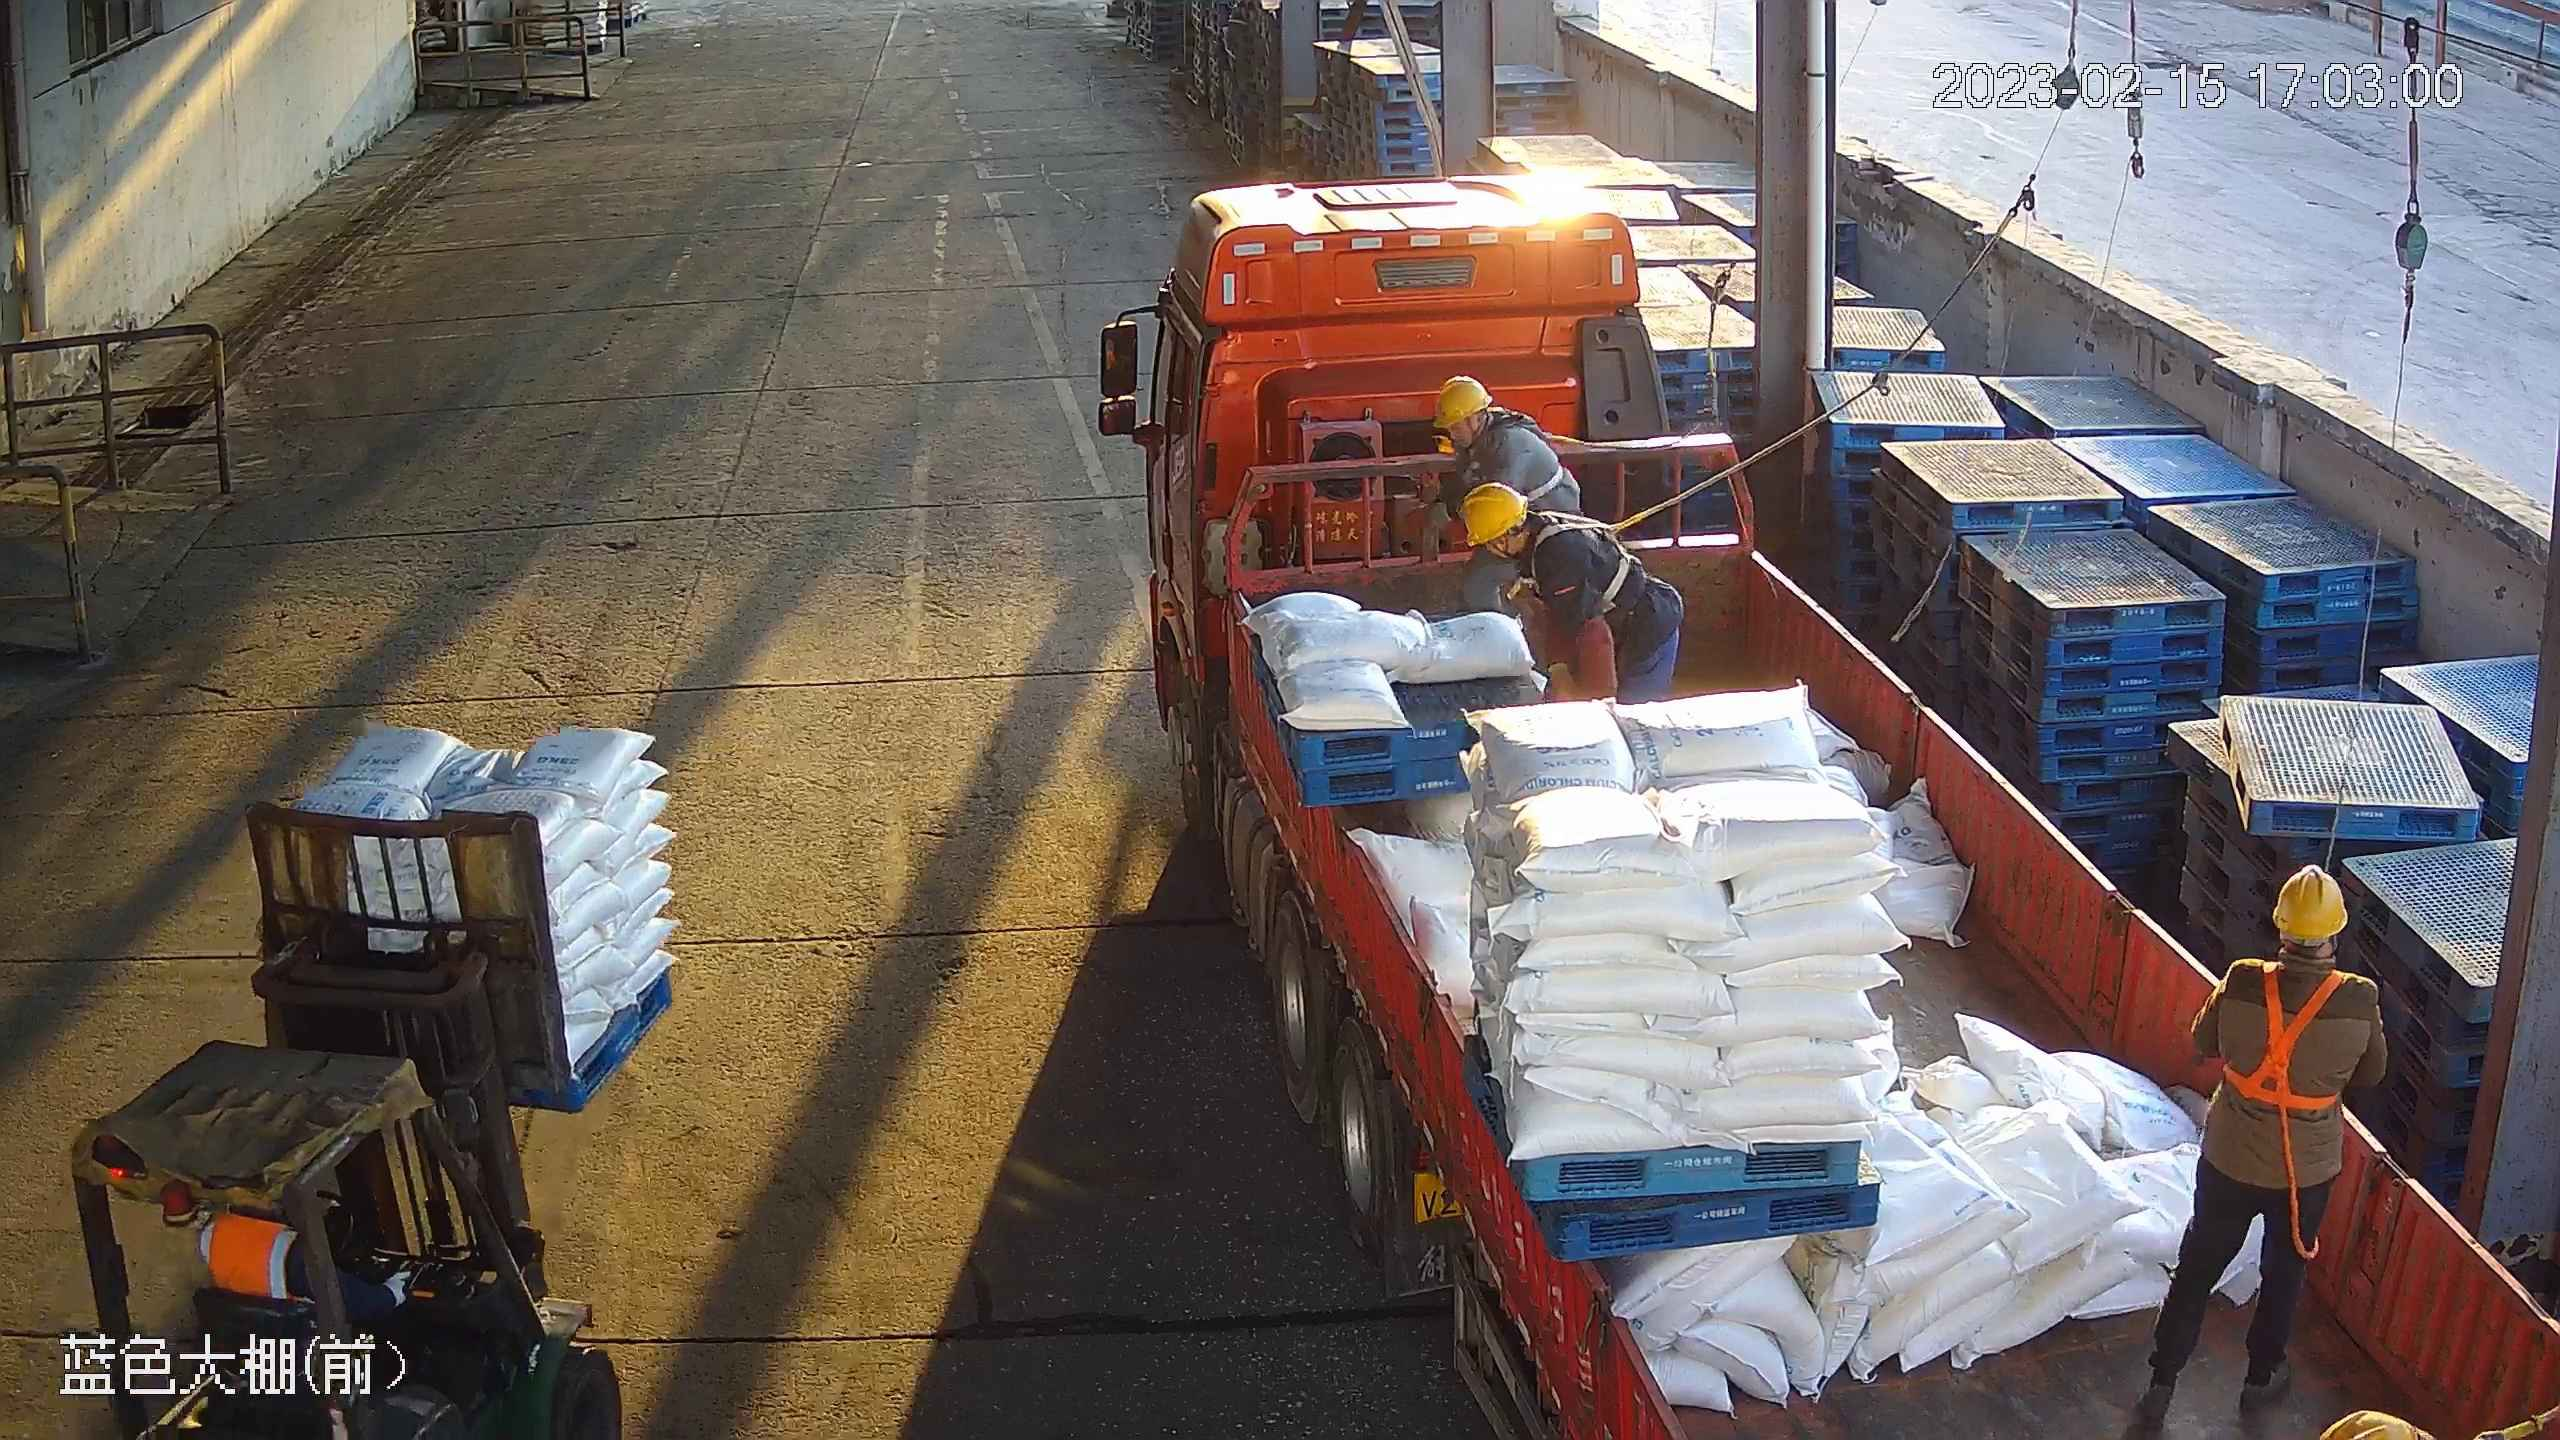belt: (2222, 954, 2361, 1116), (1544, 497, 1653, 606), (1488, 397, 1573, 451)
head: (2181, 854, 2383, 1053), (1457, 484, 1609, 606), (1423, 375, 1557, 484)
helmet: (2270, 860, 2357, 951), (1455, 482, 1540, 545), (1435, 366, 1492, 438)
people: (2175, 858, 2394, 1421), (1451, 482, 1686, 716)
truck: (1105, 167, 2560, 1440)
